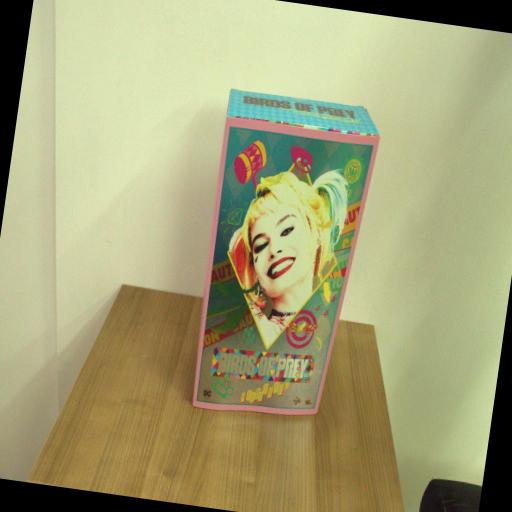Harley: (184, 83, 384, 427)
